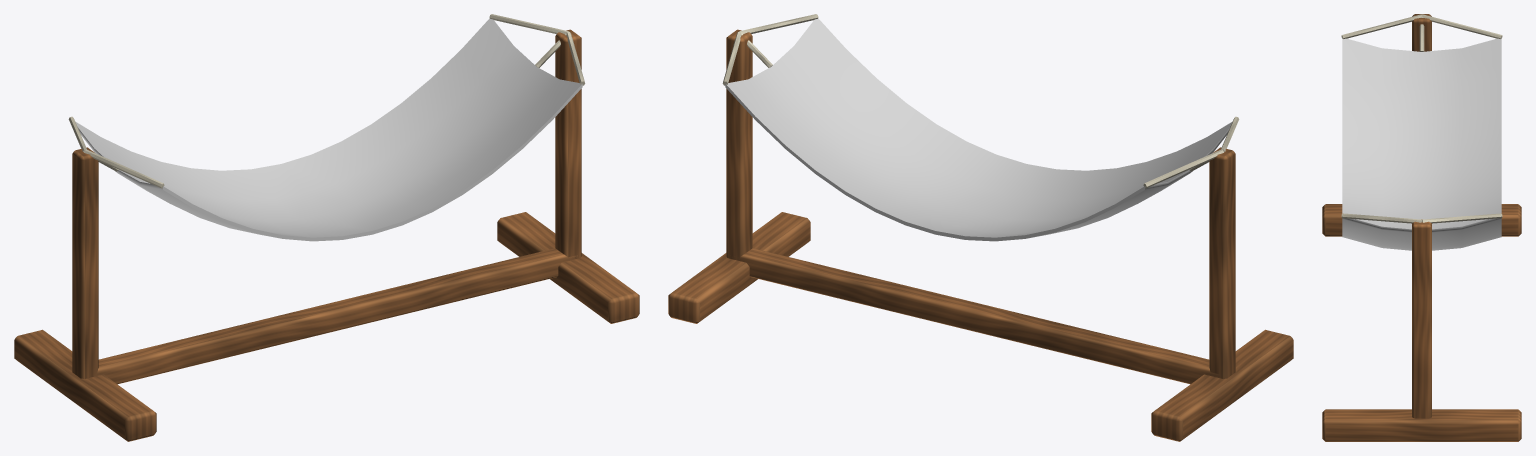
File: Furn_Life_Hammock.fbx
3 views of the same model, side by side, from view 1: azimuth 30°, elevation 25°; view 2: azimuth 150°, elevation 25°; view 3: azimuth 270°, elevation 25° (orthographic). The views are drawn at different scales.
Parts seen in each view (by area): view 1: Furn_Life_Hammock; view 2: Furn_Life_Hammock; view 3: Furn_Life_Hammock.
Part boxes in pixels (left/top/right/bottom): Furn_Life_Hammock: left=14, top=14, right=639, bottom=441; Furn_Life_Hammock: left=668, top=14, right=1293, bottom=441; Furn_Life_Hammock: left=1322, top=14, right=1521, bottom=441.
Size of the model in its own units: 2.6 by 1.2 by 1.
Materials: 3 (2 with a texture image).
